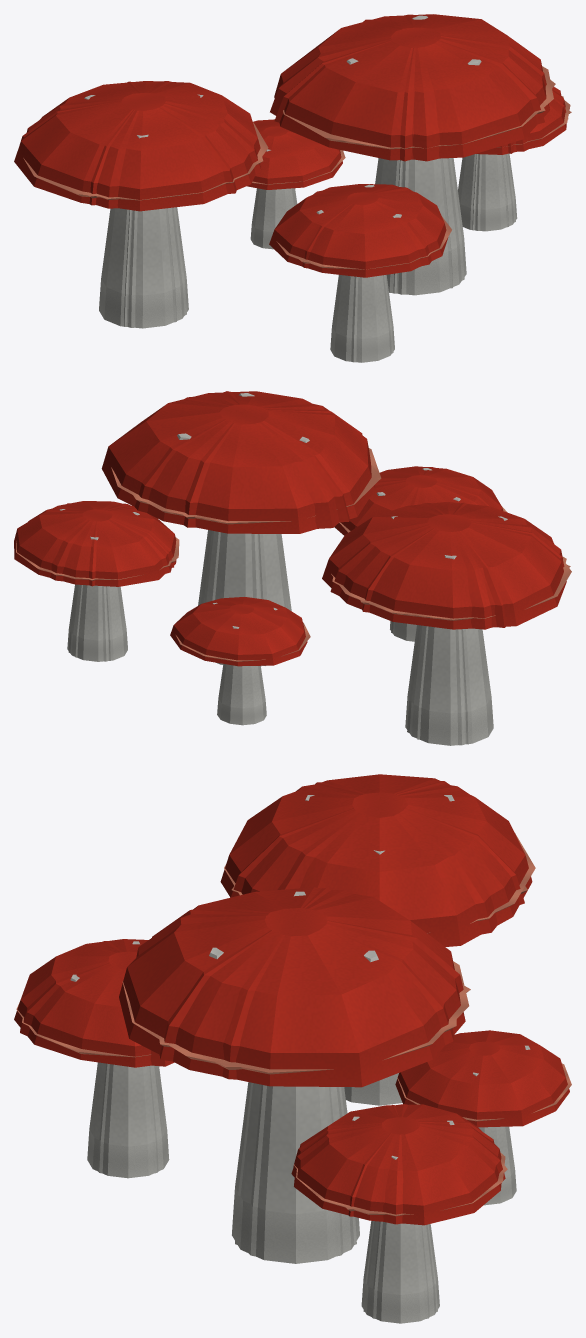
Rendered from BloodcapBank.fbx.
The picture shows the model from 3 angles, top to bottom: view 1: azimuth 30°, elevation 25°; view 2: azimuth 150°, elevation 25°; view 3: azimuth 270°, elevation 25°; orthographic projection. The views are drawn at different scales.
Visible parts, largest first — view 1: BloodcapBankDetail0, BloodcapBankDetail1, BloodcapBankDetail2; view 2: BloodcapBankDetail0, BloodcapBankDetail1, BloodcapBankDetail2; view 3: BloodcapBankDetail0, BloodcapBankDetail1, BloodcapBankDetail2.
Boxes of the visible parts, <box> form: BloodcapBankDetail0: <box>14,14,570,362</box>; BloodcapBankDetail1: <box>26,14,566,362</box>; BloodcapBankDetail2: <box>21,19,571,326</box>; BloodcapBankDetail0: <box>14,391,571,745</box>; BloodcapBankDetail1: <box>16,396,566,745</box>; BloodcapBankDetail2: <box>67,391,570,744</box>; BloodcapBankDetail0: <box>14,774,571,1323</box>; BloodcapBankDetail1: <box>20,784,534,1318</box>; BloodcapBankDetail2: <box>152,781,527,1311</box>.
Size of the model in its own units: 78.1 by 33 by 53.23.
Materials: 1 (1 with a texture image).
